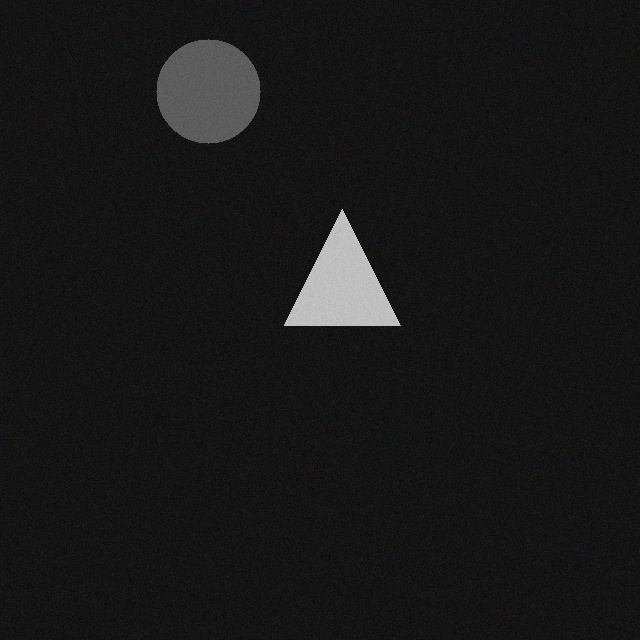circle: (163, 44, 267, 148)
triangle: (291, 214, 407, 330)
